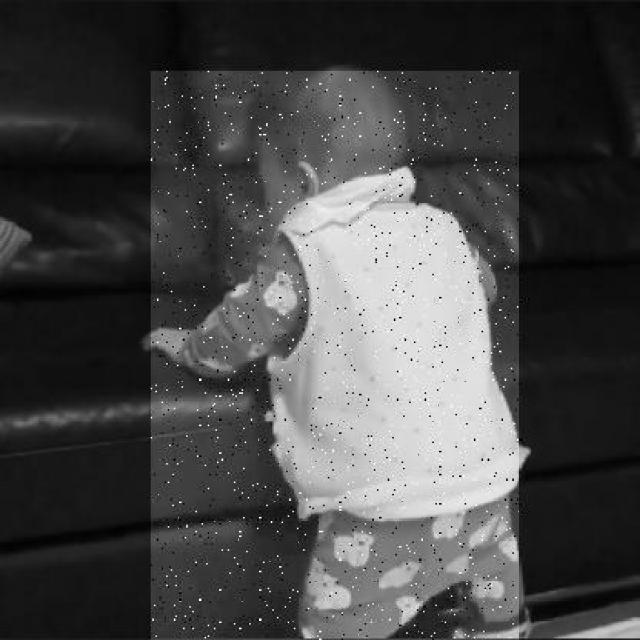child: (151, 71, 520, 640)
